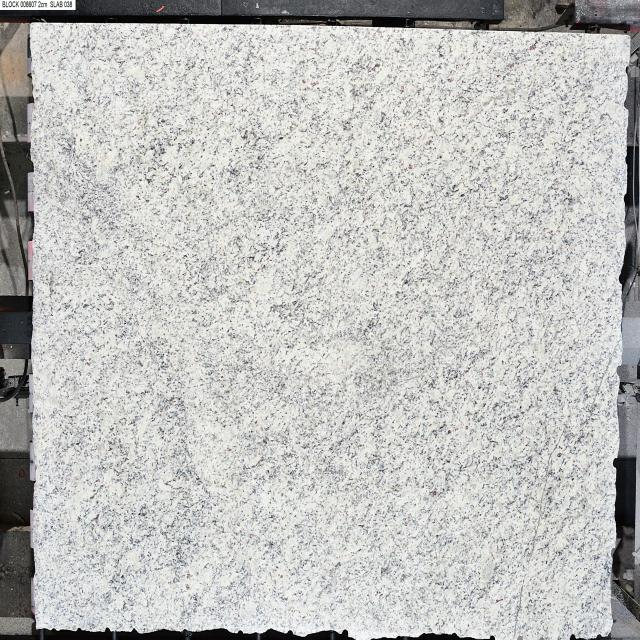chapa: (31, 24, 629, 638)
veio: (611, 454, 621, 472), (615, 363, 622, 379), (341, 628, 350, 638)
